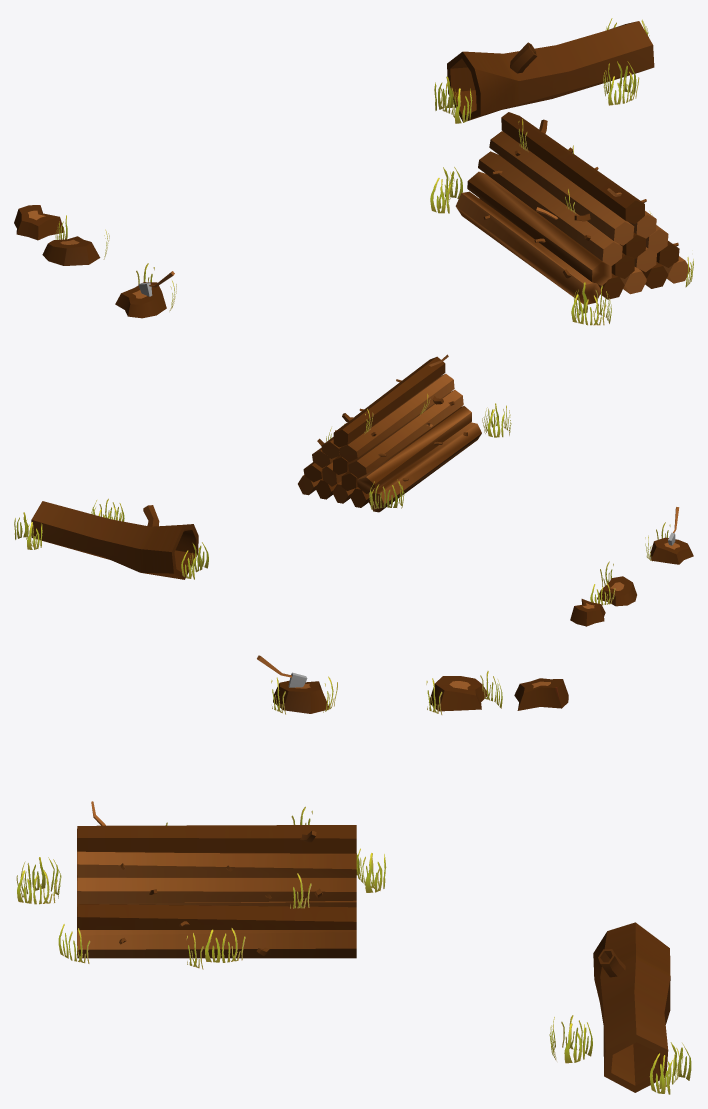
File: SM_DeadTrees.fbx
The picture shows the model from 3 angles, top to bottom: view 1: azimuth 30°, elevation 25°; view 2: azimuth 150°, elevation 25°; view 3: azimuth 270°, elevation 25°; orthographic projection. The views are drawn at different scales.
Parts seen in each view (by area): view 1: SM_TreesLogs, SM_DeadTrees, SM_TreesCut_03, SM_TreesCut_02, SM_TreesCut_01; view 2: SM_TreesLogs, SM_DeadTrees, SM_TreesCut_03, SM_TreesCut_02, SM_TreesCut_01; view 3: SM_TreesLogs, SM_DeadTrees, SM_TreesCut_02, SM_TreesCut_03, SM_TreesCut_01.
Boxes of the visible parts, x1,y1,x2,y2 form: SM_TreesLogs: [430, 112, 693, 325]; SM_DeadTrees: [434, 18, 654, 123]; SM_TreesCut_03: [115, 263, 176, 318]; SM_TreesCut_02: [42, 215, 109, 265]; SM_TreesCut_01: [14, 205, 64, 240]; SM_TreesLogs: [298, 354, 511, 512]; SM_DeadTrees: [14, 498, 208, 579]; SM_TreesCut_03: [645, 507, 693, 564]; SM_TreesCut_02: [590, 561, 636, 606]; SM_TreesCut_01: [570, 599, 605, 626]; SM_TreesLogs: [16, 801, 386, 969]; SM_DeadTrees: [549, 922, 691, 1094]; SM_TreesCut_02: [426, 671, 502, 714]; SM_TreesCut_03: [257, 655, 337, 714]; SM_TreesCut_01: [514, 678, 568, 710].
Bounding box in the file's own units: 19.08 × 3.53 × 14.36.
